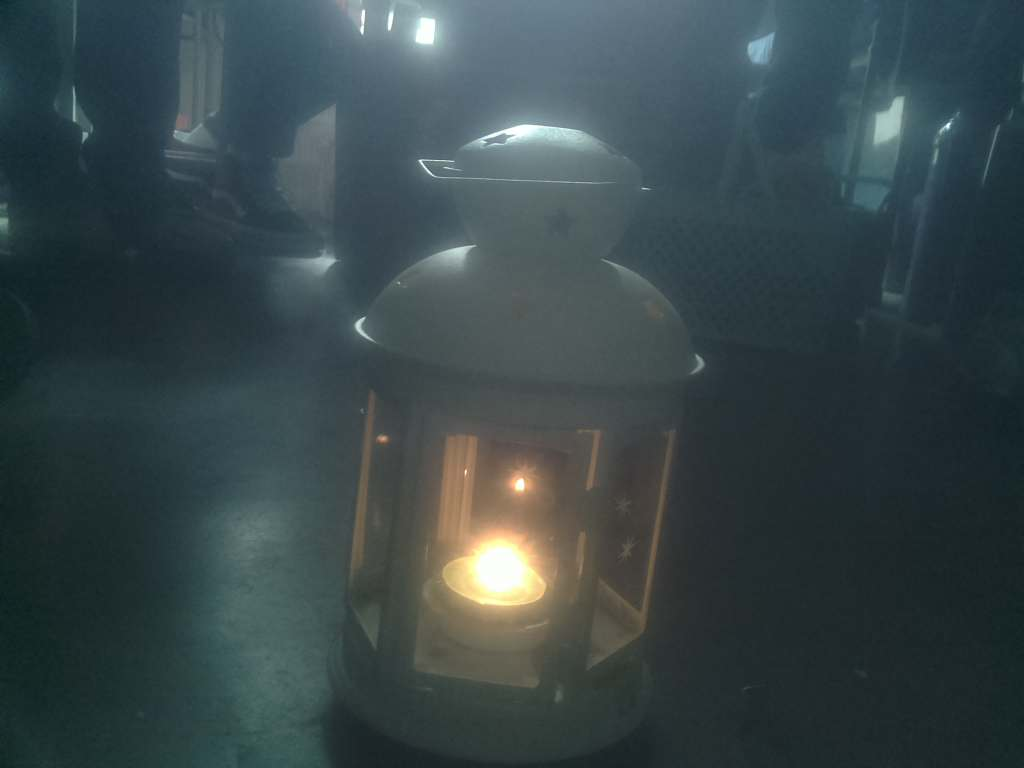fire: (427, 528, 558, 632)
